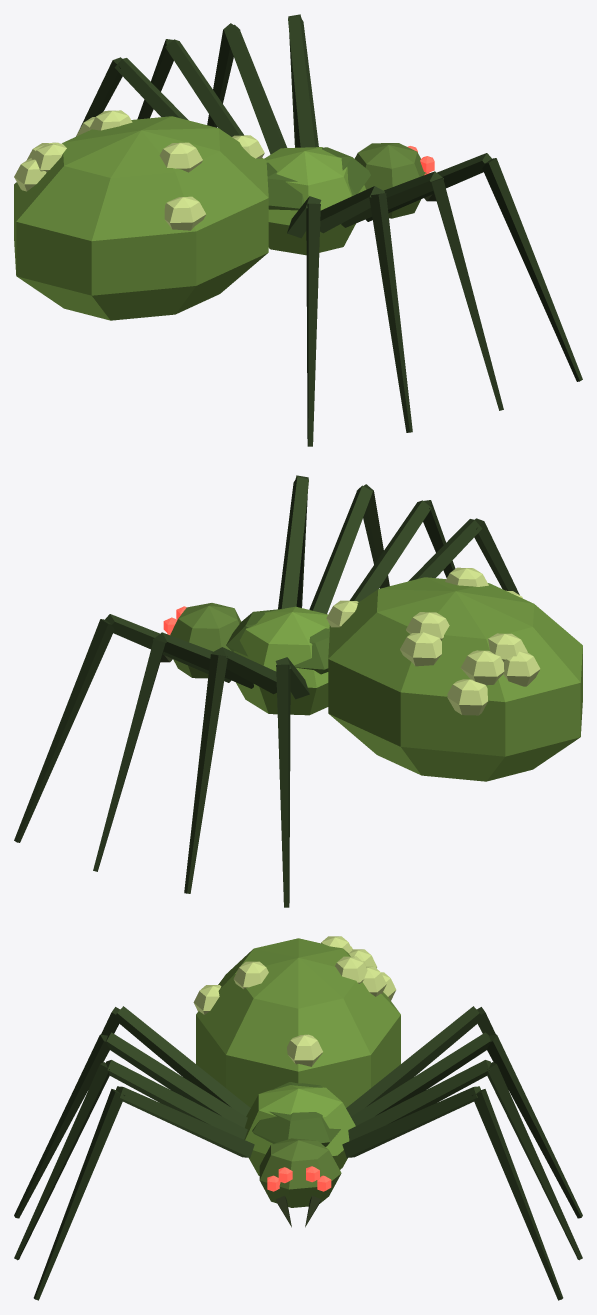
File: brood.glb
The picture shows the model from 3 angles, top to bottom: view 1: azimuth 30°, elevation 25°; view 2: azimuth 150°, elevation 25°; view 3: azimuth 270°, elevation 25°; orthographic projection. The views are drawn at different scales.
Parts seen in each view (by area): view 1: body, sleg_r3, sleg_r1, sleg_r2, sleg_l2, sleg_r4, head, sleg_l3, sleg_l1, sleg_l4; view 2: body, sleg_l3, sleg_l1, sleg_l2, sleg_r2, sleg_l4, head, sleg_r3, sleg_r1, sleg_r4; view 3: body, sleg_r3, sleg_l3, sleg_l1, sleg_r1, head, sleg_l2, sleg_r2, sleg_l4, sleg_r4.
Boxes of the visible parts, x1,y1,x2,y2 form: body: (14,110,370,320); sleg_r3: (320,186,412,432); sleg_r1: (365,153,582,381); sleg_r2: (341,171,503,410); sleg_l2: (207,23,287,154); sleg_r4: (287,196,321,446); head: (354,143,436,218); sleg_l3: (137,39,243,136); sleg_l1: (288,14,318,147); sleg_l4: (76,57,188,136); body: (226,567,582,781); sleg_l3: (184,647,276,893); sleg_l1: (14,614,231,842); sleg_l2: (93,632,253,871); sleg_r2: (309,484,389,613); sleg_l4: (275,657,309,907); head: (160,603,241,678); sleg_r3: (349,500,455,601); sleg_r1: (278,475,308,609); sleg_r4: (408,518,519,594); body: (193,936,400,1175); sleg_r3: (14,1032,247,1218); sleg_l3: (351,1032,582,1218); sleg_l1: (342,1086,563,1300); sleg_r1: (33,1086,254,1300); head: (259,1138,341,1227); sleg_l2: (348,1060,582,1260); sleg_r2: (14,1060,247,1260); sleg_l4: (346,1006,495,1116); sleg_r4: (101,1006,250,1116).
Size of the model in its own units: 4.06 by 2.03 by 5.01.
